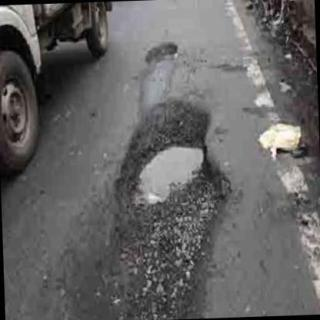pothole: (93, 100, 231, 320)
